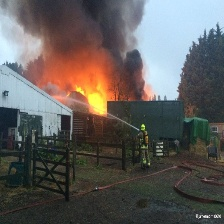fire: (77, 87, 113, 116)
smoke: (3, 1, 160, 97)
